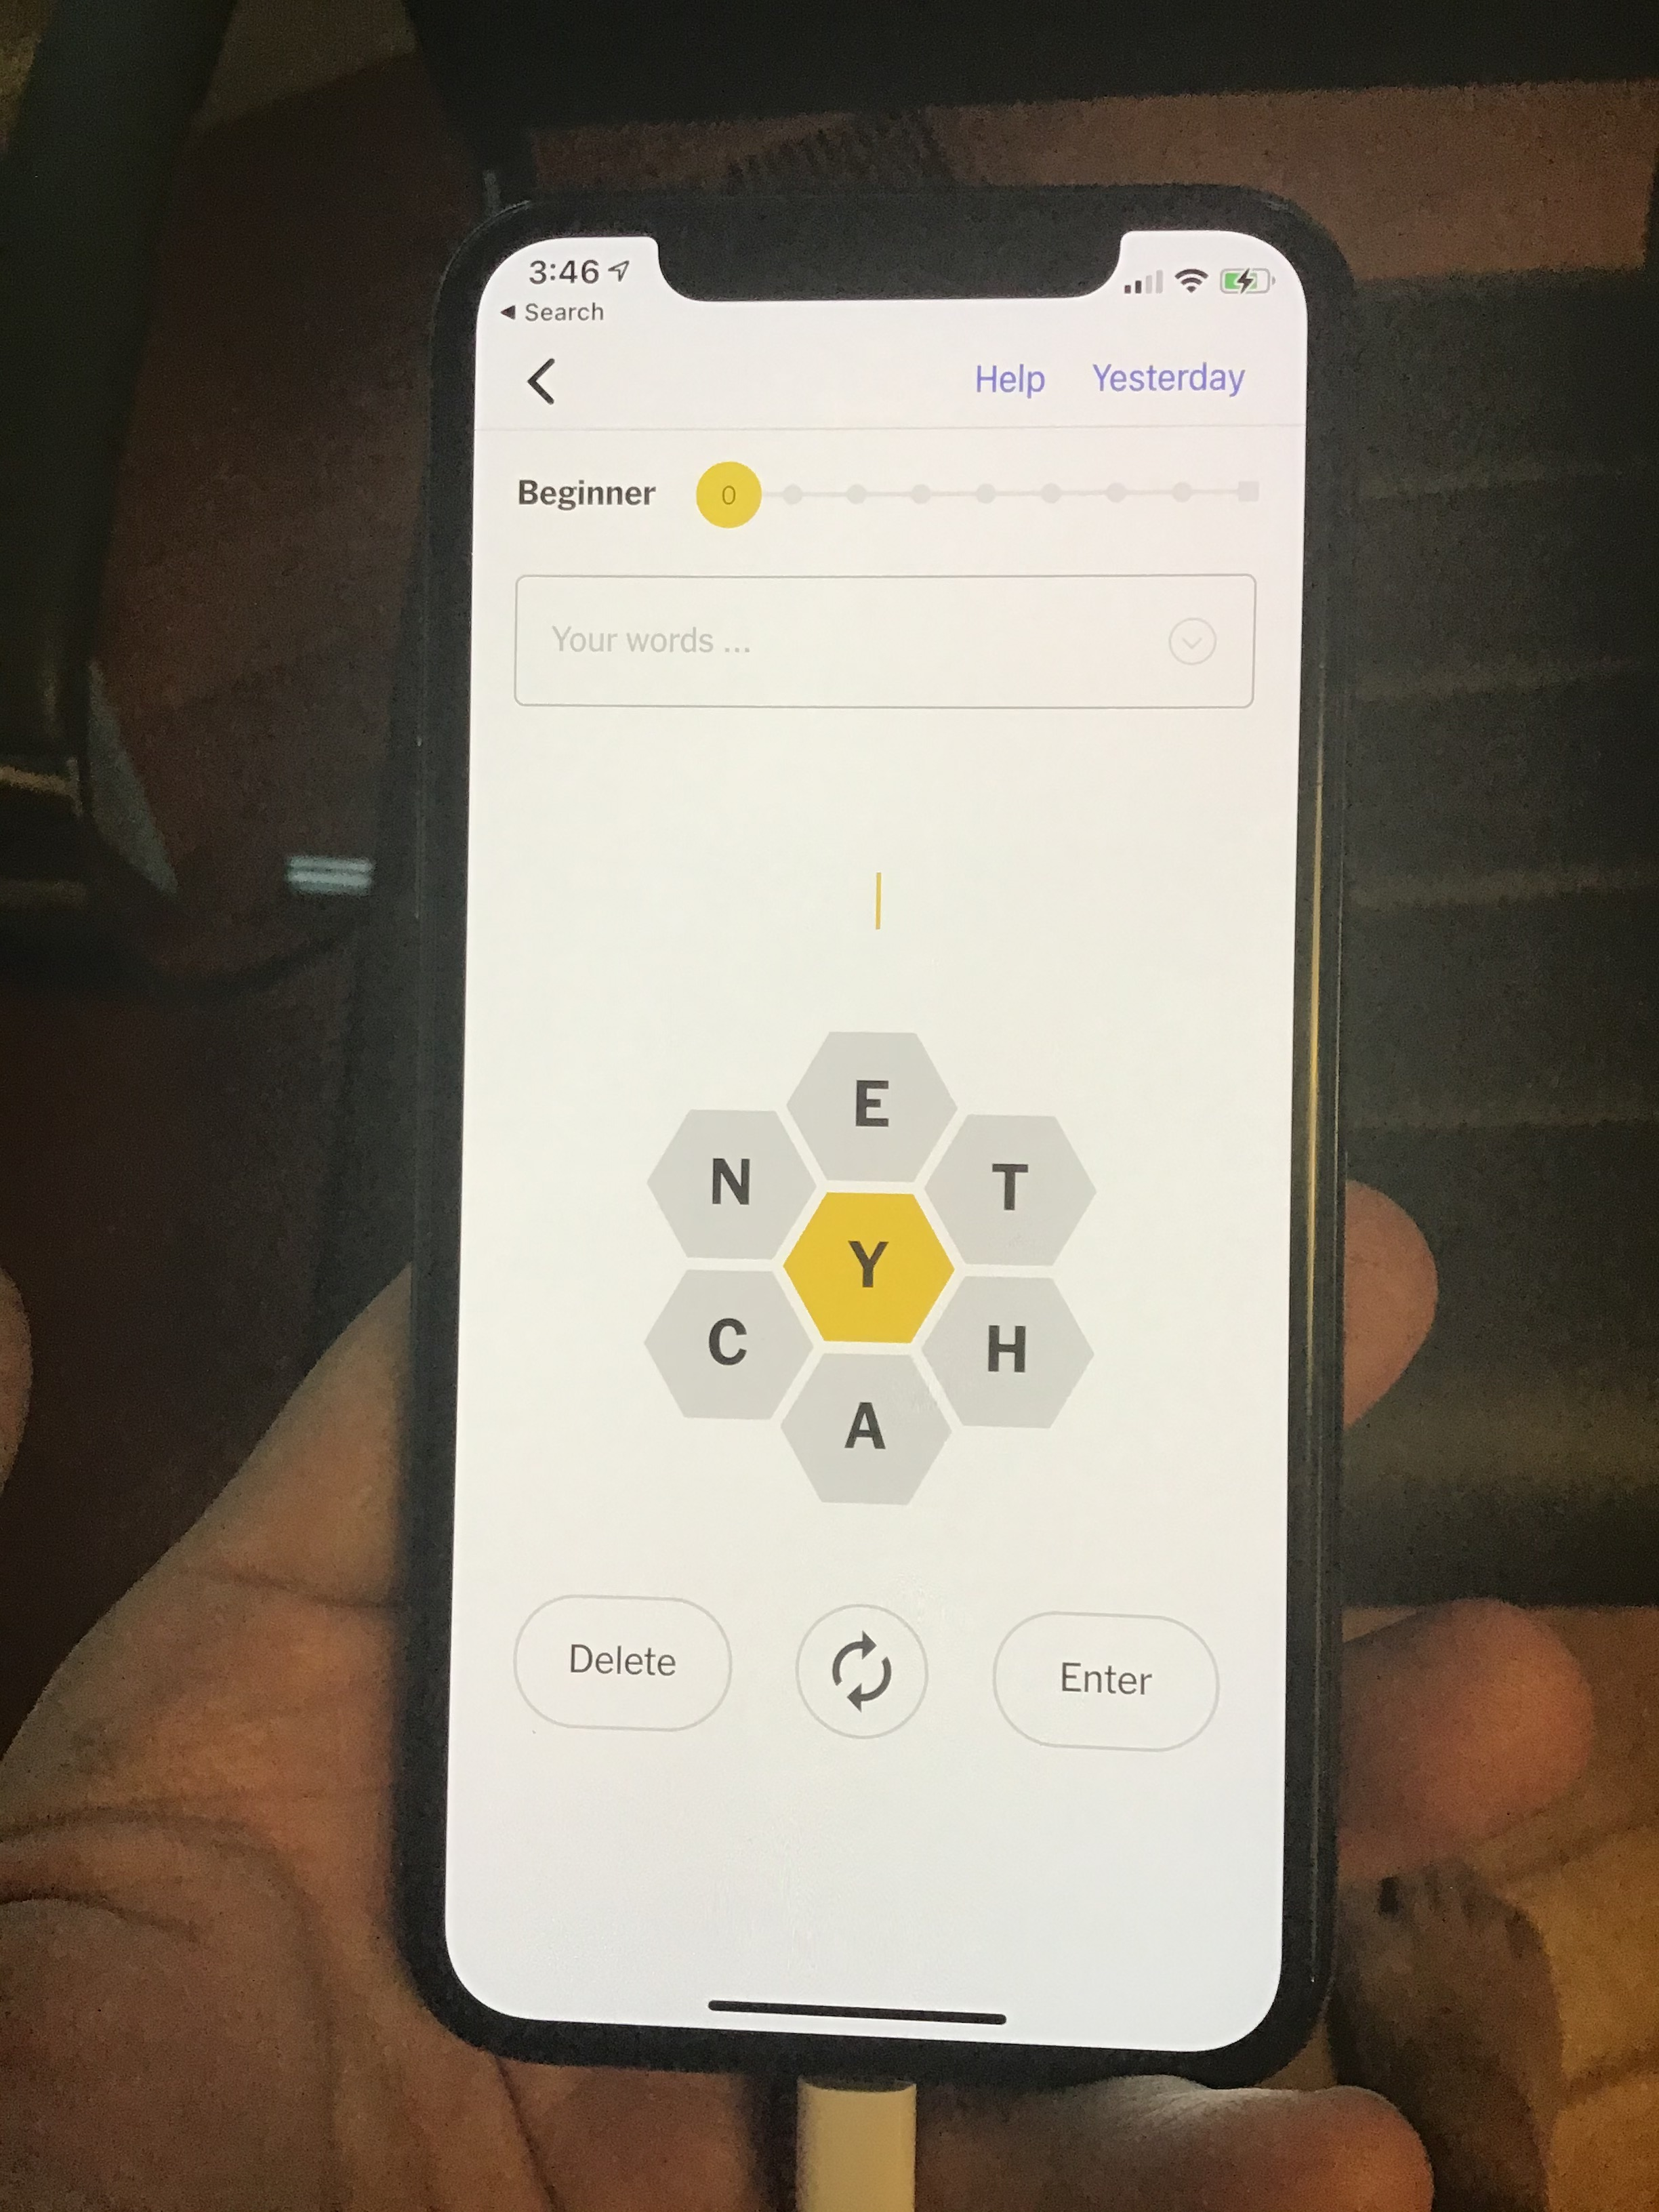Board: (612, 1007, 1141, 1536)
